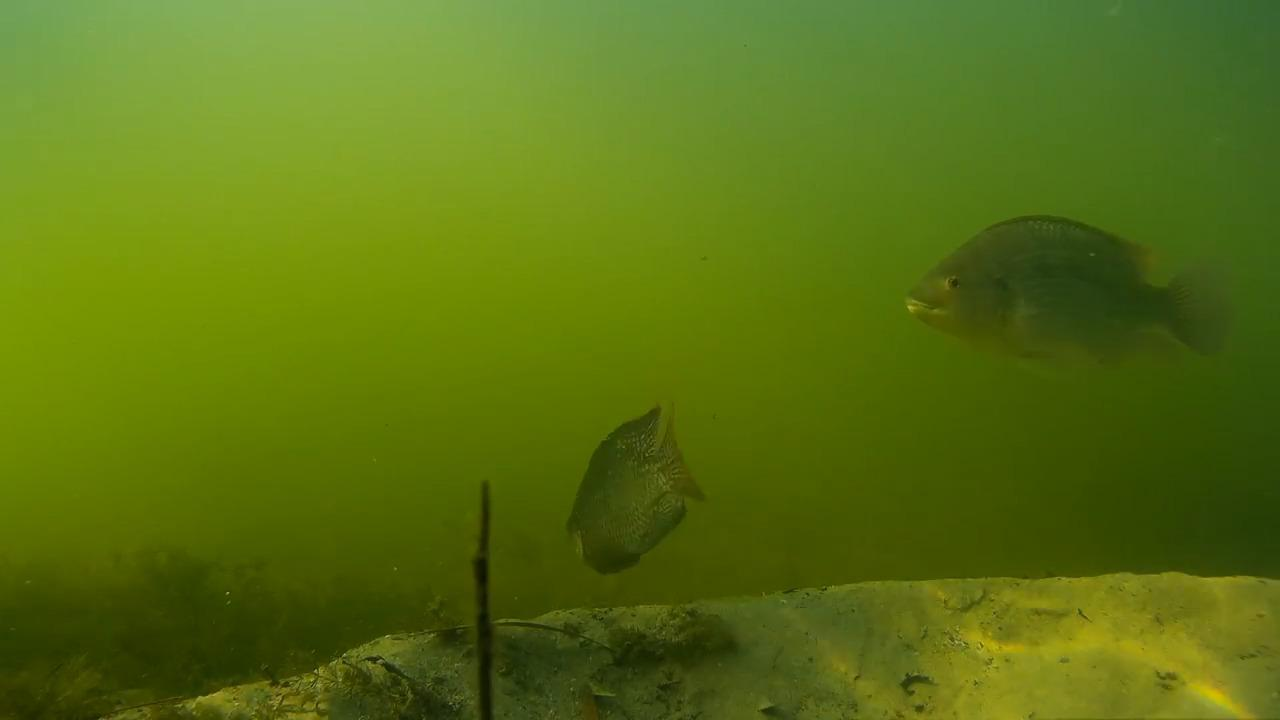Tilapia: (867, 202, 1246, 376), (556, 396, 711, 596)
